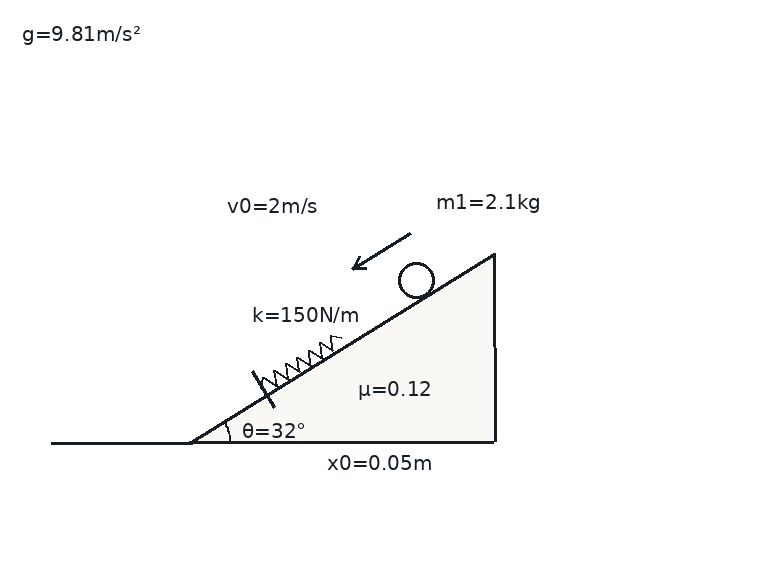ball: (396, 260, 436, 300)
ramp: (188, 250, 496, 444)
spring: (259, 333, 342, 389)
